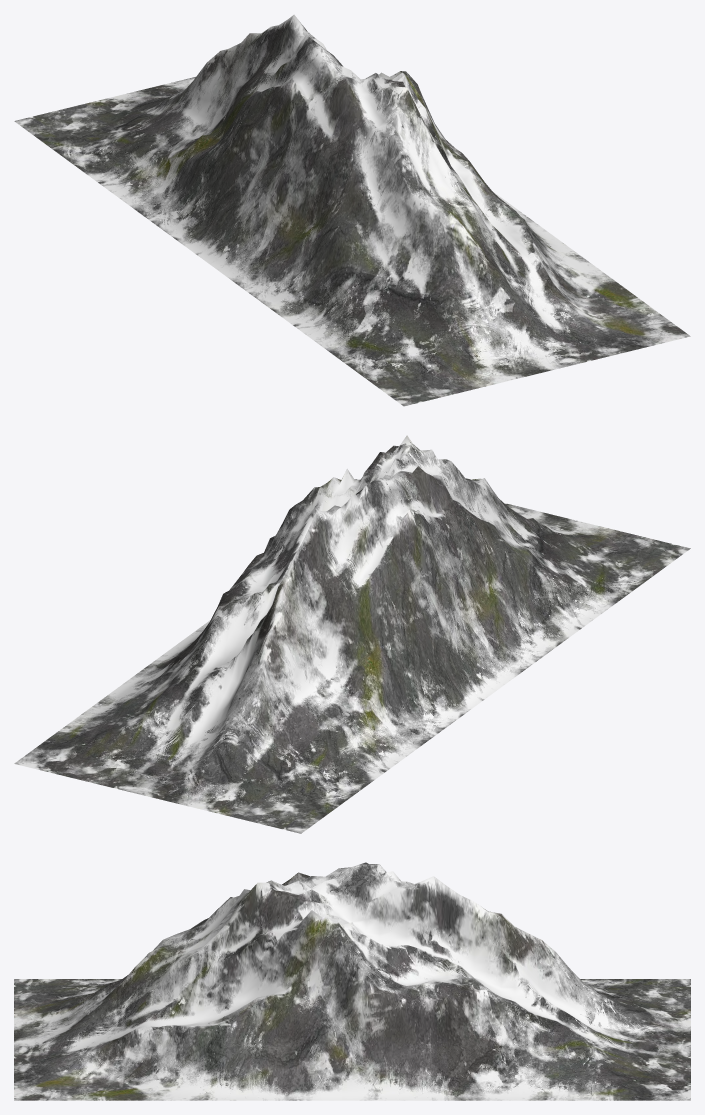
Rendered from far2.glb.
3 views of the same model, one above another, from view 1: azimuth 30°, elevation 25°; view 2: azimuth 150°, elevation 25°; view 3: azimuth 270°, elevation 25° (orthographic). The views are drawn at different scales.
Visible parts, largest first — view 1: Object_2; view 2: Object_2; view 3: Object_2.
Part boxes in pixels (x1,y1,x2,y2): Object_2: (14,14,690,406); Object_2: (14,435,690,833); Object_2: (14,862,690,1100).
Size of the model in its own units: 600 by 376 by 1411.
Materials: 1 (1 with a texture image).
